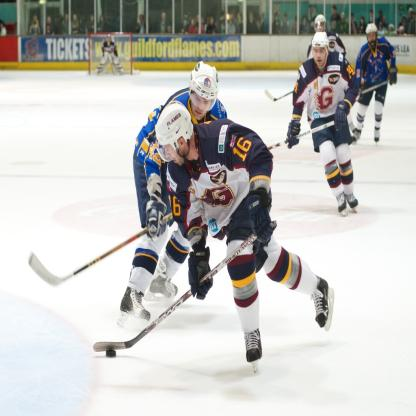Helmet: (152, 103, 194, 162), (188, 63, 218, 110), (307, 28, 329, 70), (308, 11, 326, 28), (365, 21, 376, 46)
